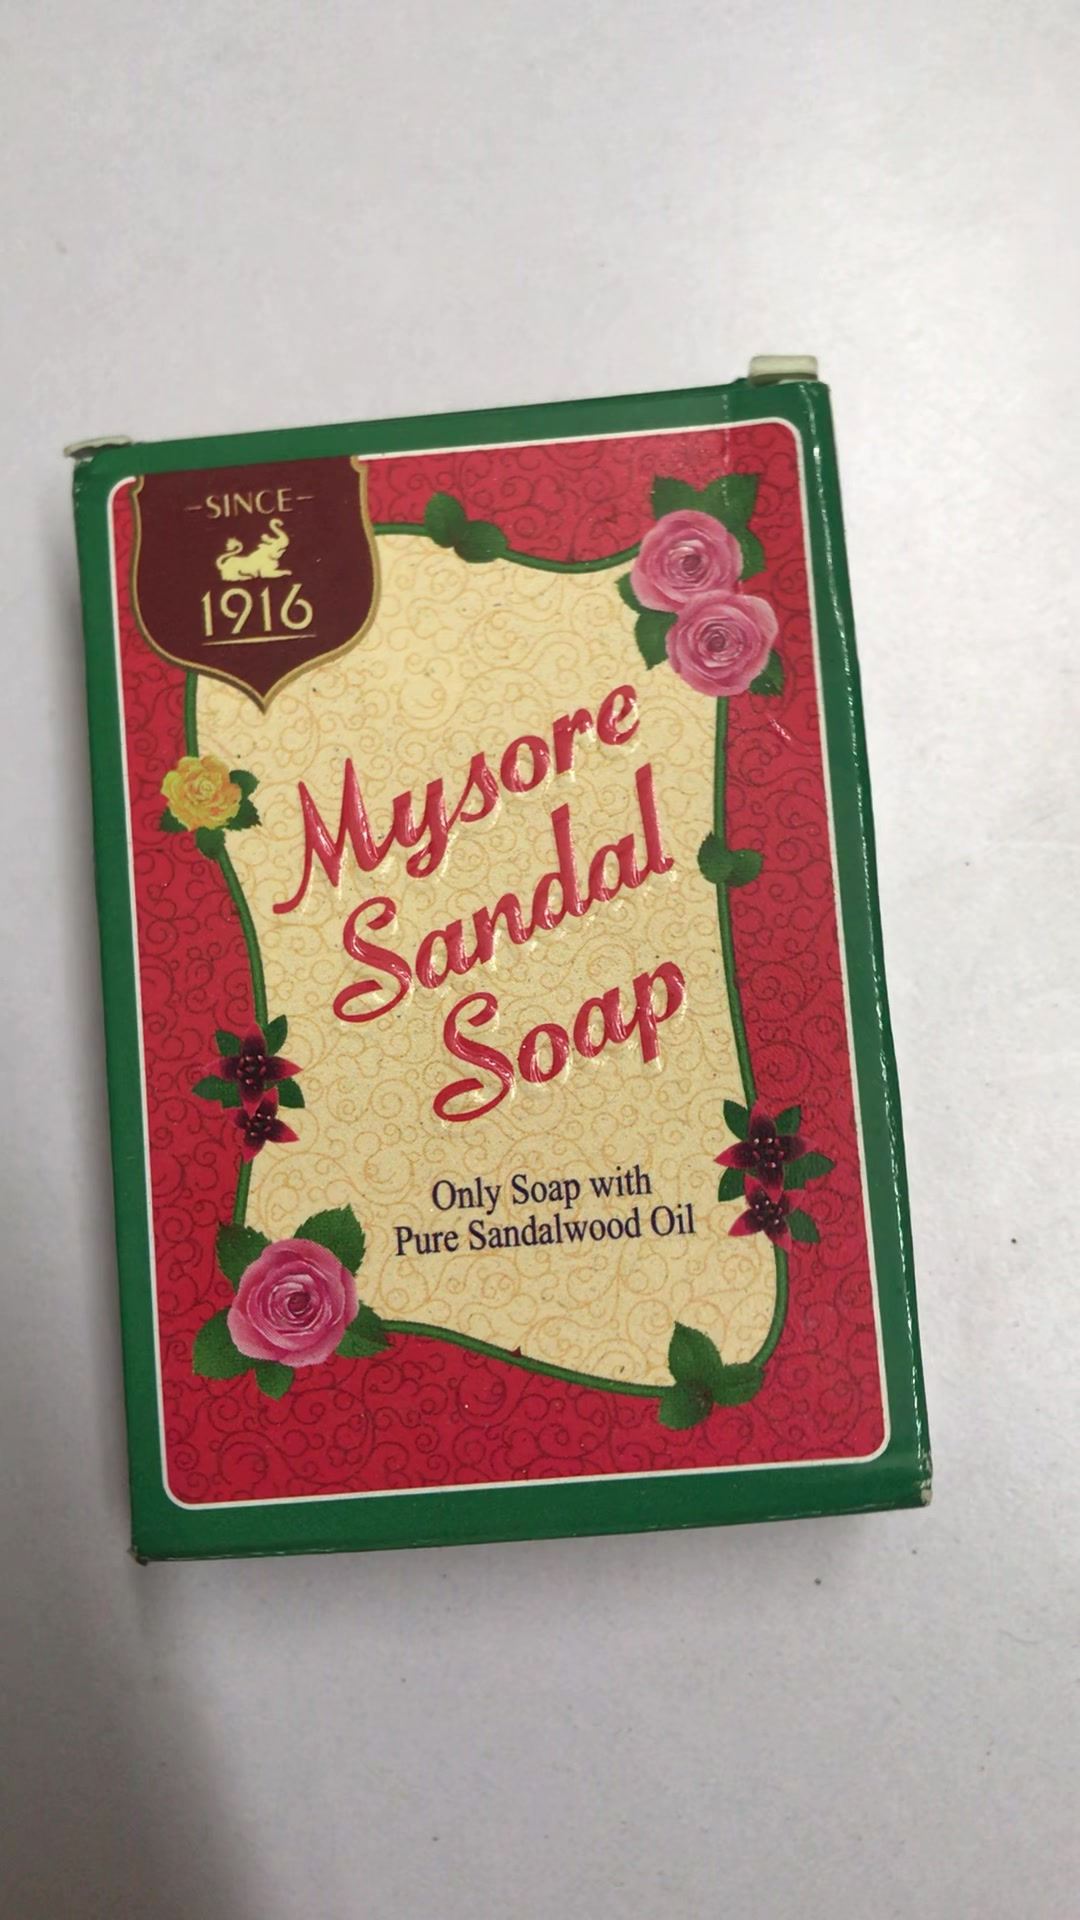mysore sandal soap: (84, 373, 936, 1561)
